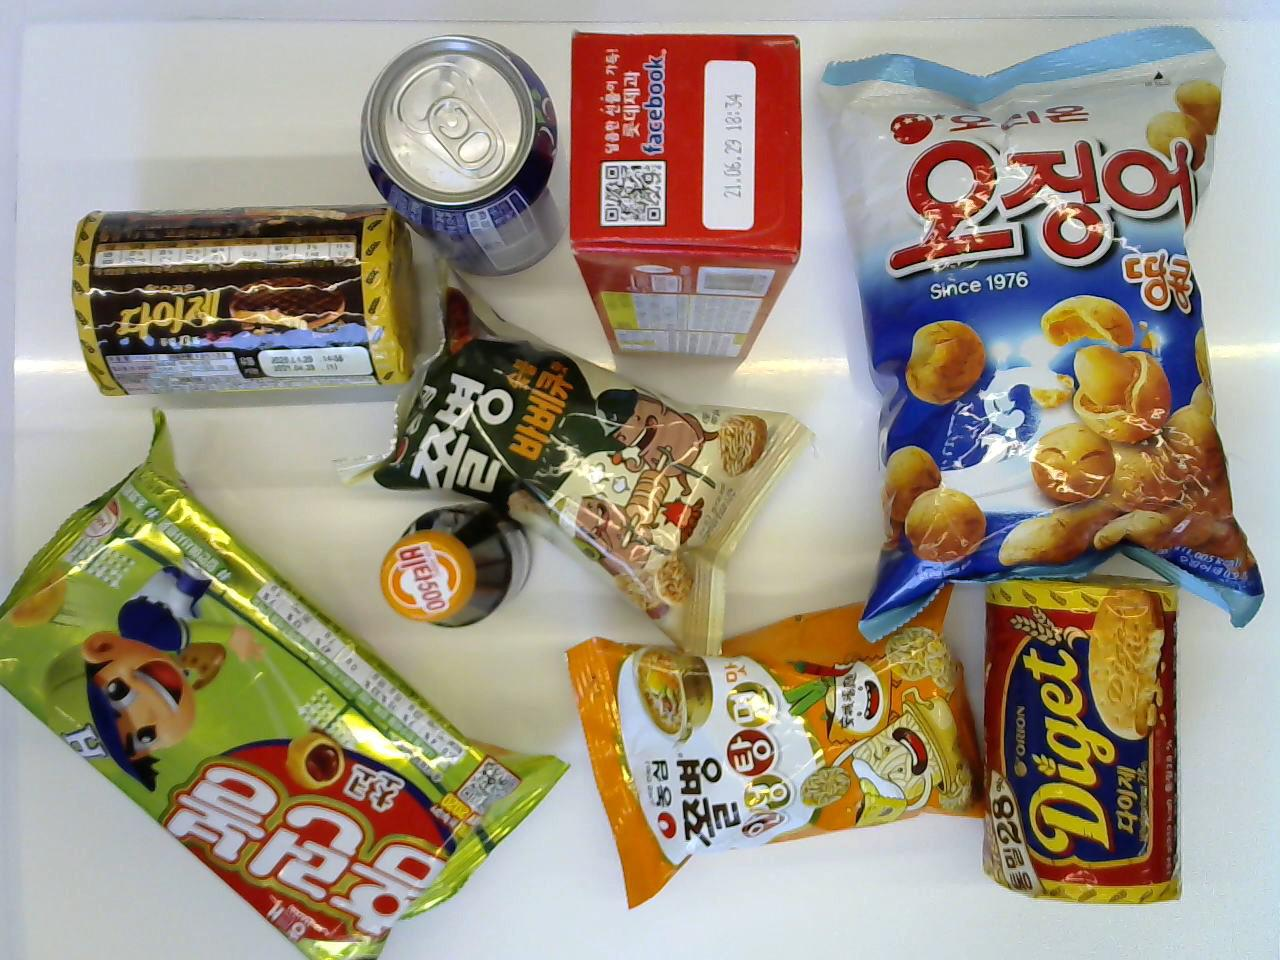diget_choco: (67, 198, 415, 403)
diget_ori: (972, 562, 1189, 908)
homerunball: (0, 409, 570, 960)
jjolbyung_noodle: (554, 577, 992, 914)
jjolbyung_ori: (321, 251, 808, 669)
squid_peanut: (818, 9, 1263, 652)
vita500: (377, 503, 534, 636)
welchs: (354, 26, 574, 277)
zec: (564, 21, 808, 366)
